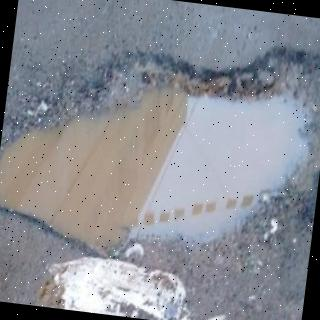pothole: (0, 49, 320, 249)
